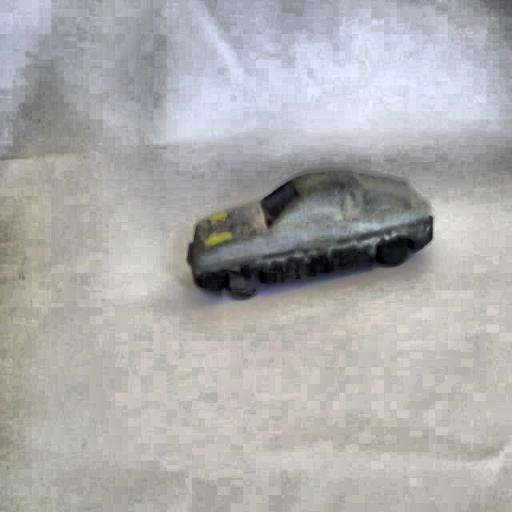normal_car: (184, 165, 436, 303)
